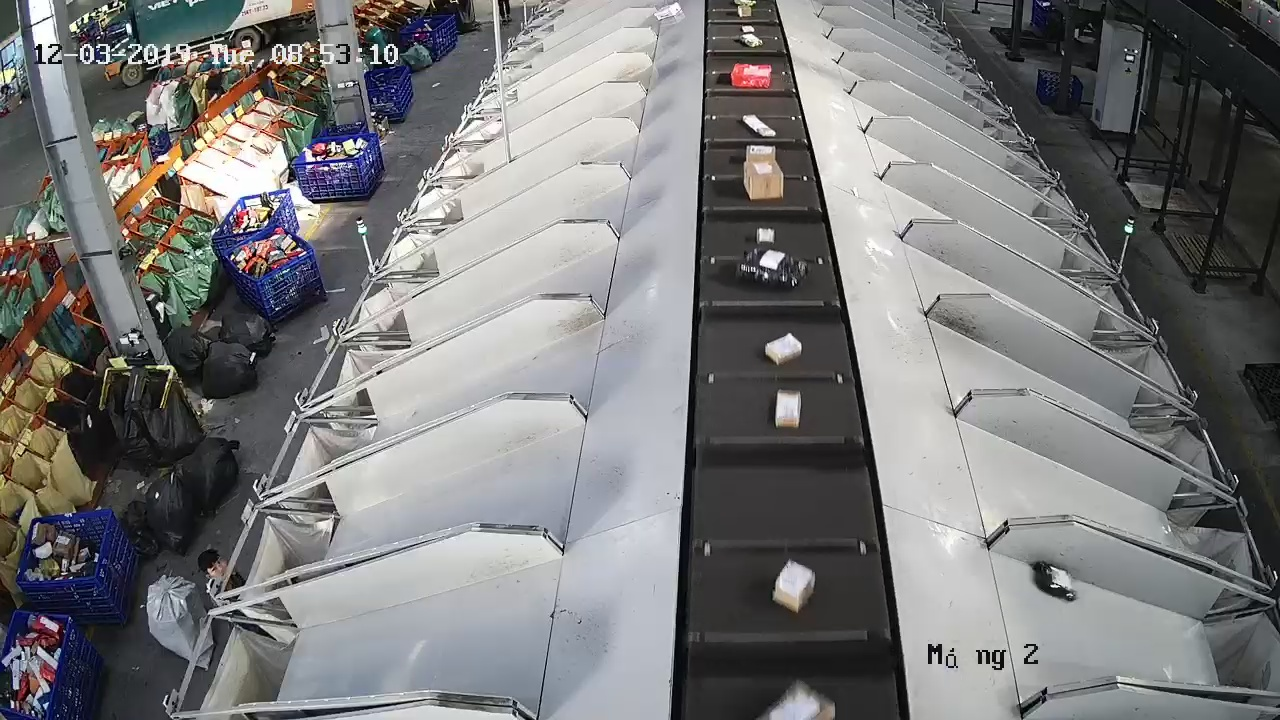parcel: (734, 247, 811, 292), (770, 558, 818, 616), (1030, 558, 1078, 602), (762, 331, 804, 367), (772, 387, 803, 430), (754, 227, 778, 246)
